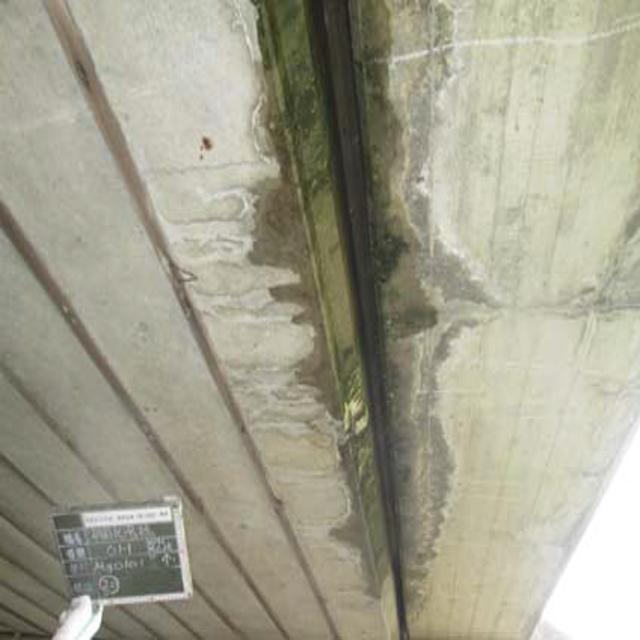leakage: (240, 16, 456, 567)
